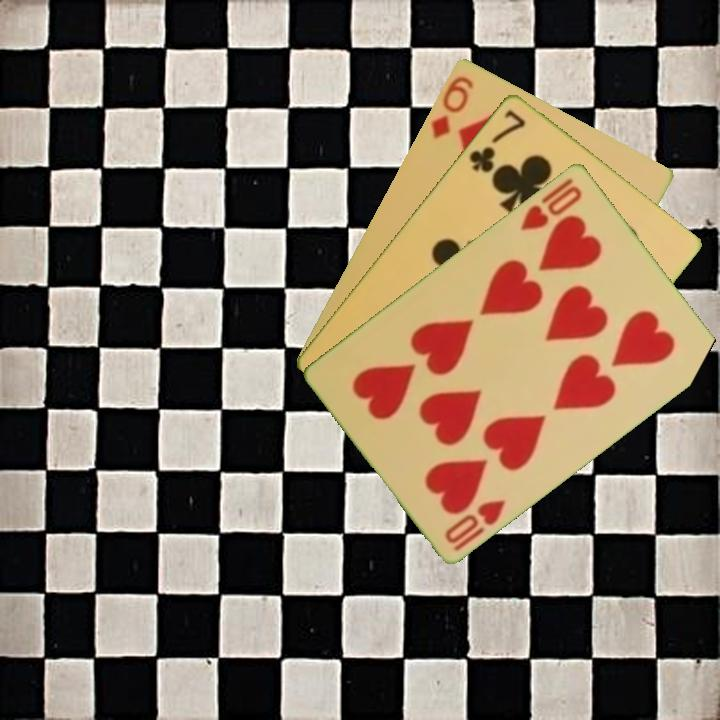10h: (441, 495, 509, 554), (516, 181, 585, 233)
6d: (427, 72, 476, 141)
7c: (465, 105, 529, 175)
